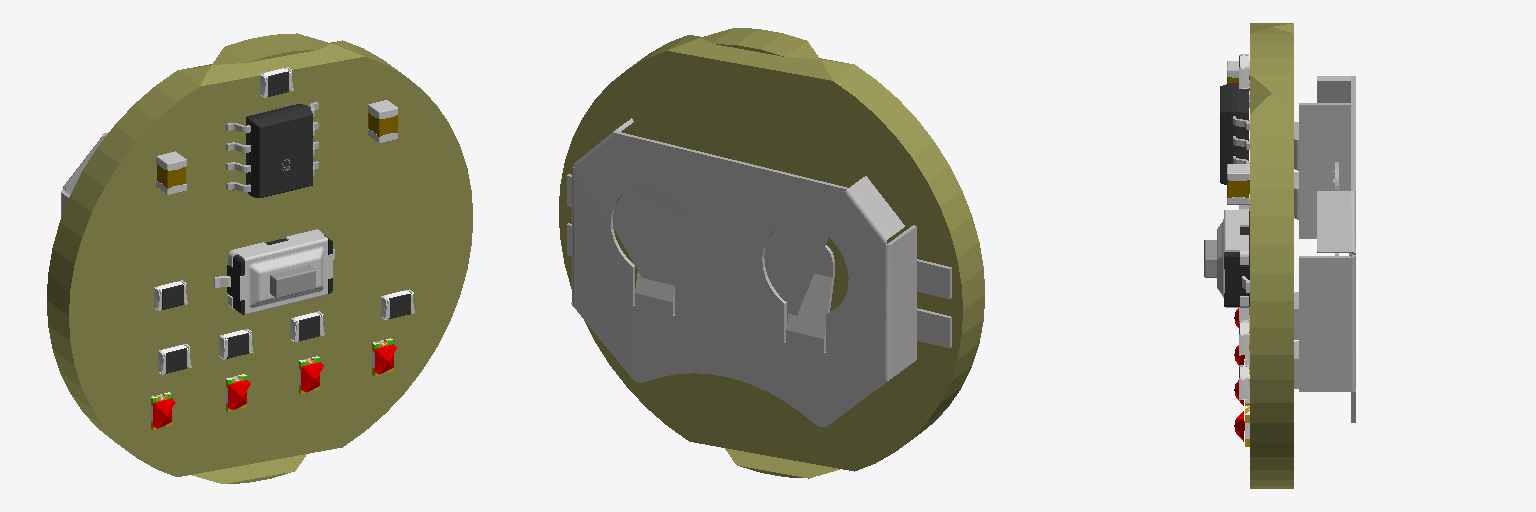
File: OBJ_PCB_Circle_ATtiny13BinaryWatches.obj
The picture shows the model from 3 angles: view 1: azimuth 30°, elevation 25°; view 2: azimuth 150°, elevation 25°; view 3: azimuth 270°, elevation 25°; orthographic projection.
Bounding box in the file's own units: 105 × 105 × 34.06.